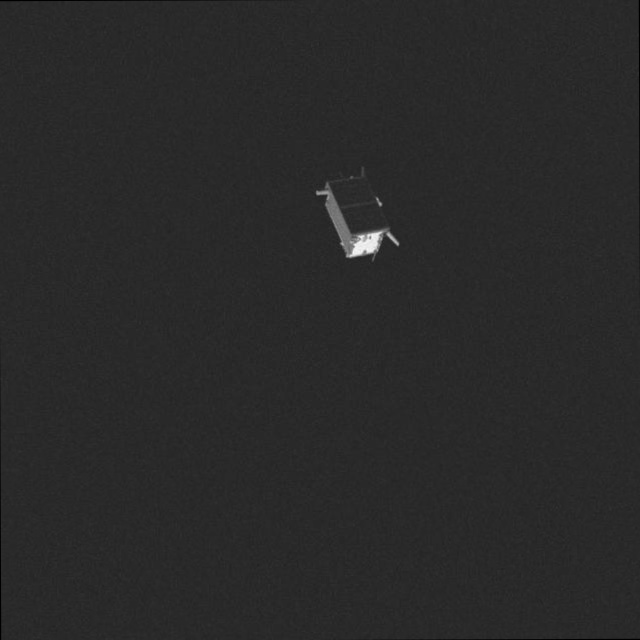satellite: (310, 166, 408, 266)
